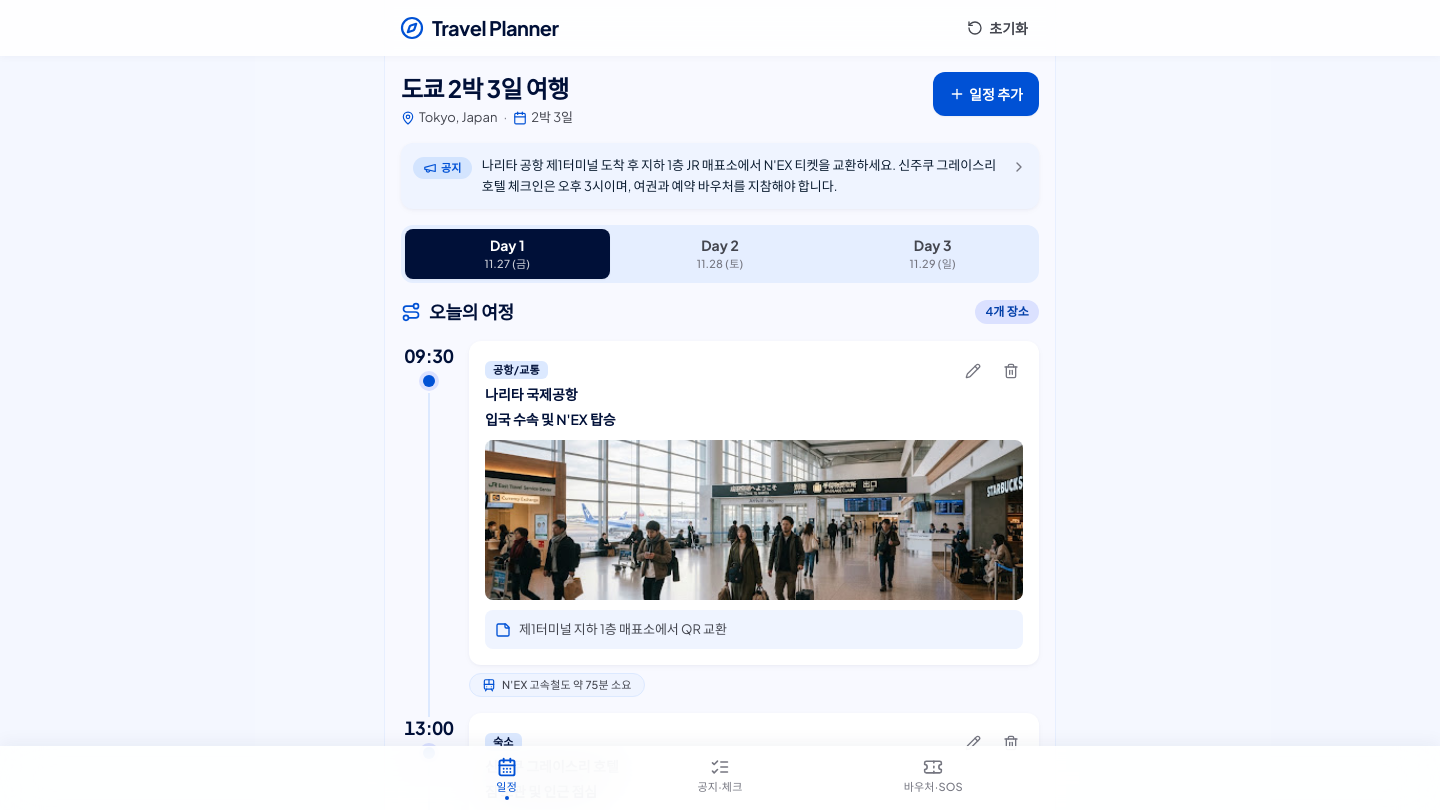
Test: Phase 2 신규 기능 및 입력값 보안 강화 자동화 QA › 2. 긴급 SOS 모달 및 공식 연락처 검증 (Agent A) › 긴급 SOS 모달 열기/닫기, 공식 tel 링크 적용 및 샘플 가이드 발신 비활성화를 검증한다
Click the button "바우처·SOS" at (933, 778), box [827,746,1040,809]
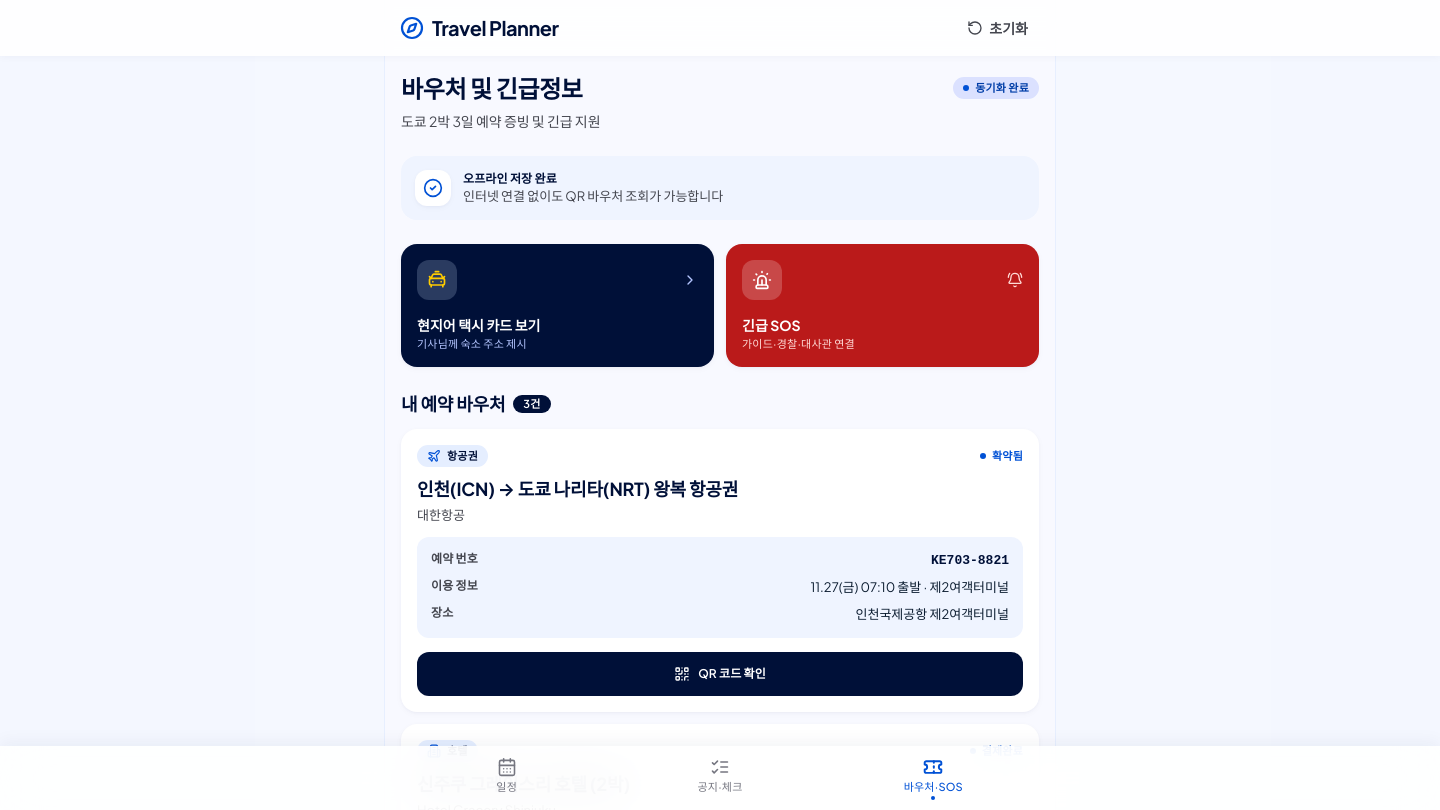
Expected: the button "긴급 SOS 가이드·경찰·대사관 연결" is shown
Click the button "긴급 SOS 가이드·경찰·대사관 연결" at (762, 280), box [726,244,1039,367]
(page scrolled)
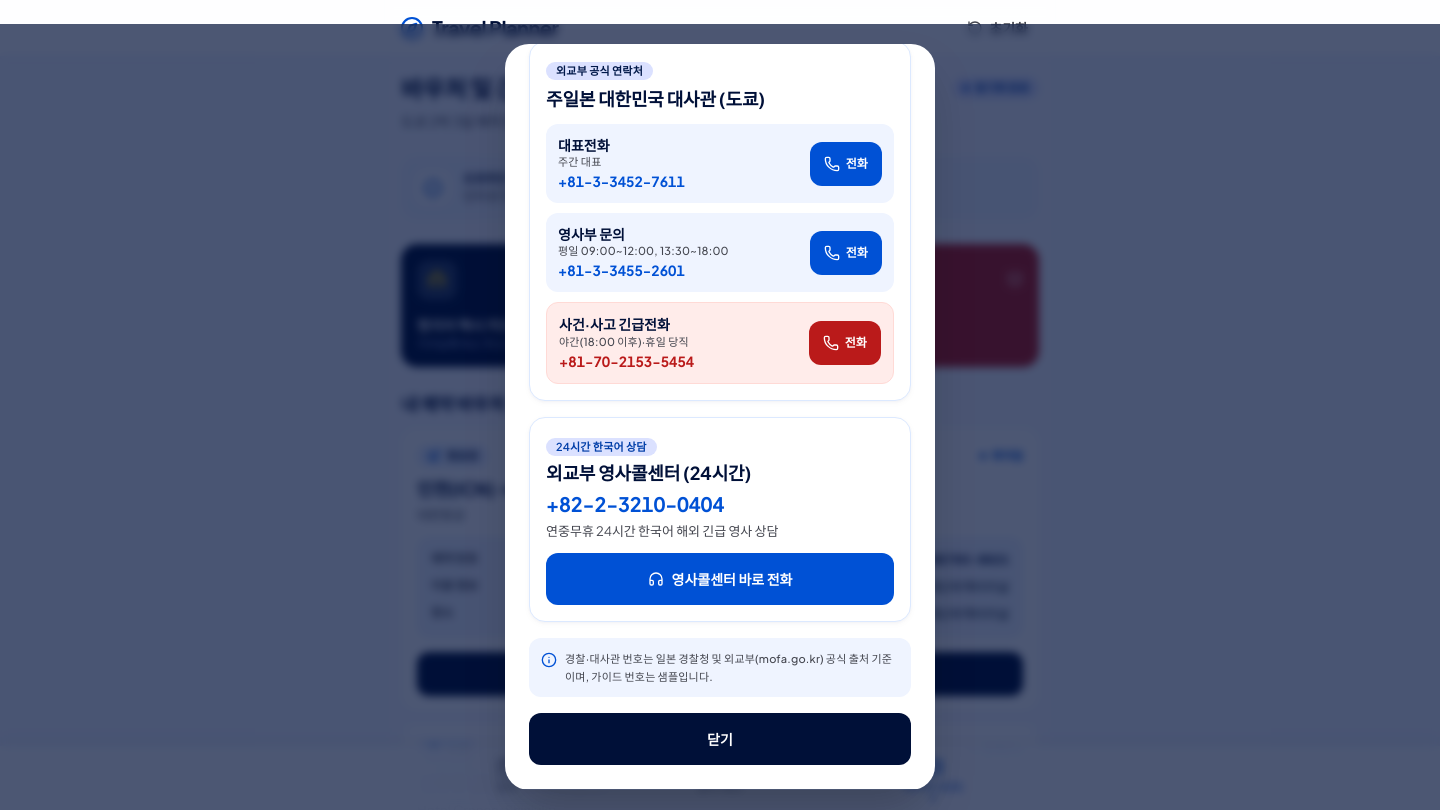
Expected: the text "+81-3-3452-7611" is shown, [558,171,685,191]
Expected: the text "+81-3-3455-2601" is shown, [558,261,685,279]
Expected: the text "+81-70-2153-5454" is shown, [559,351,694,371]
Click the button "닫기" at (720, 739), box [529,713,911,765]
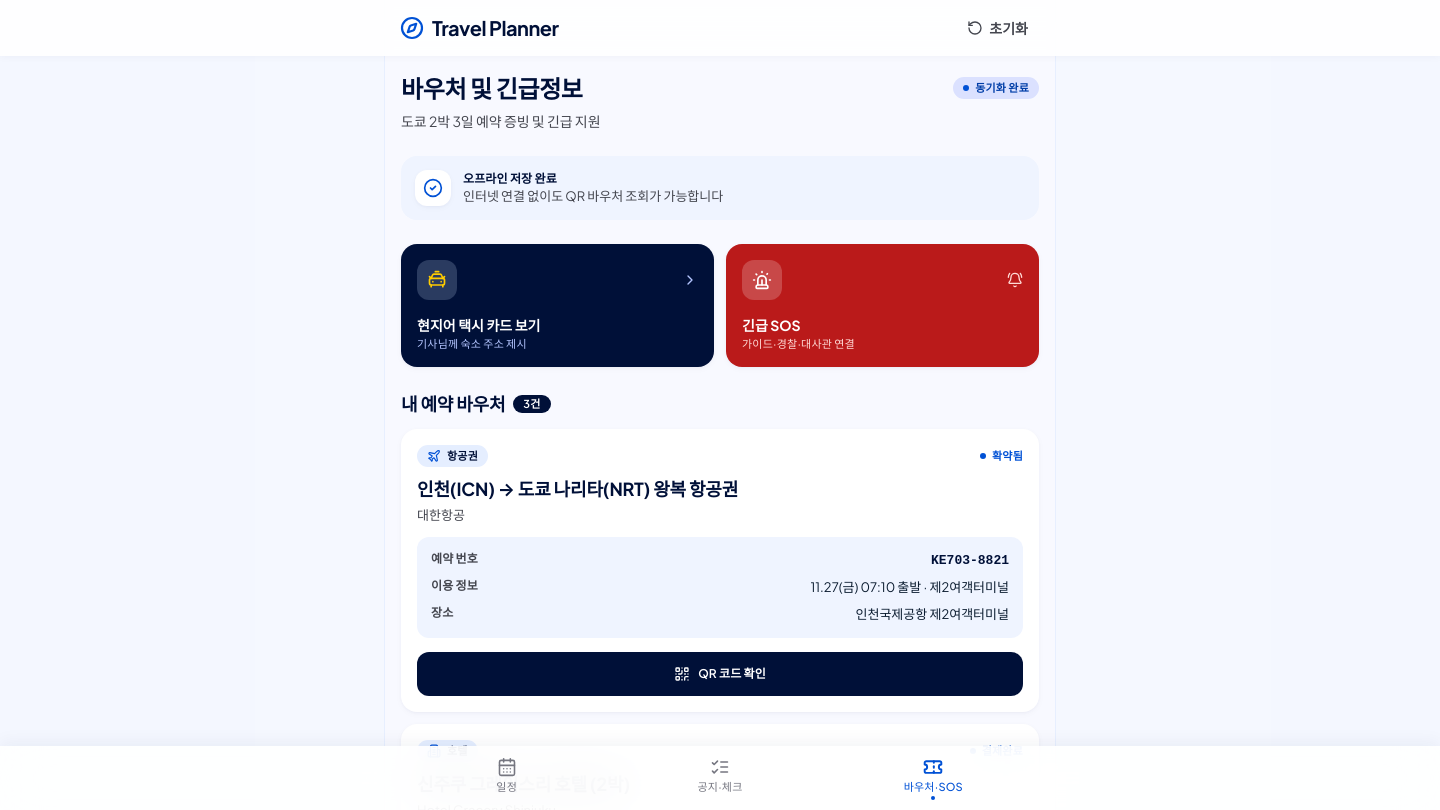
Expected: the dialog is gone
# 다시 열고 Escape 키로 닫기
Click the button "긴급 SOS 가이드·경찰·대사관 연결" at (762, 280), box [726,244,1039,367]
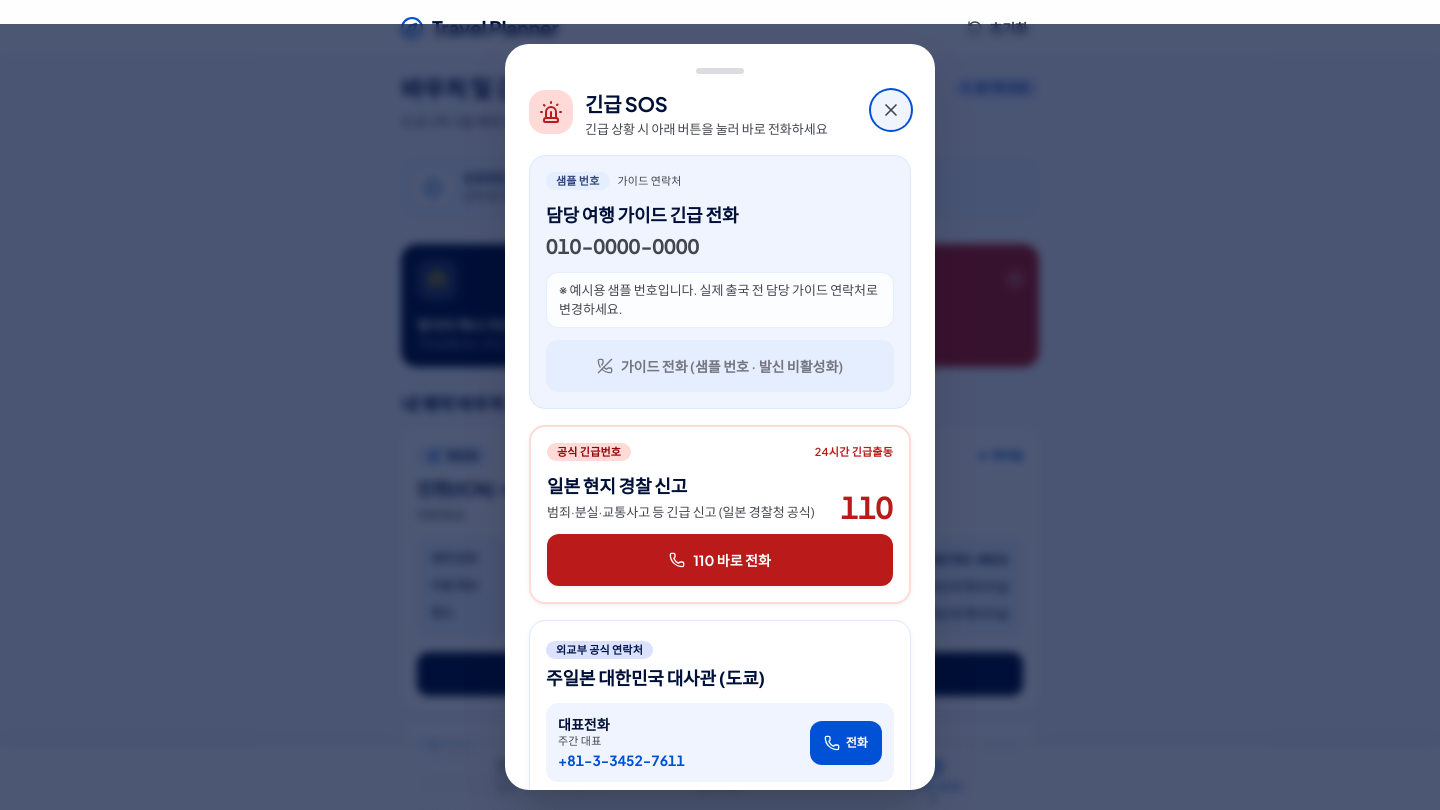
Expected: the dialog is shown
Press Escape
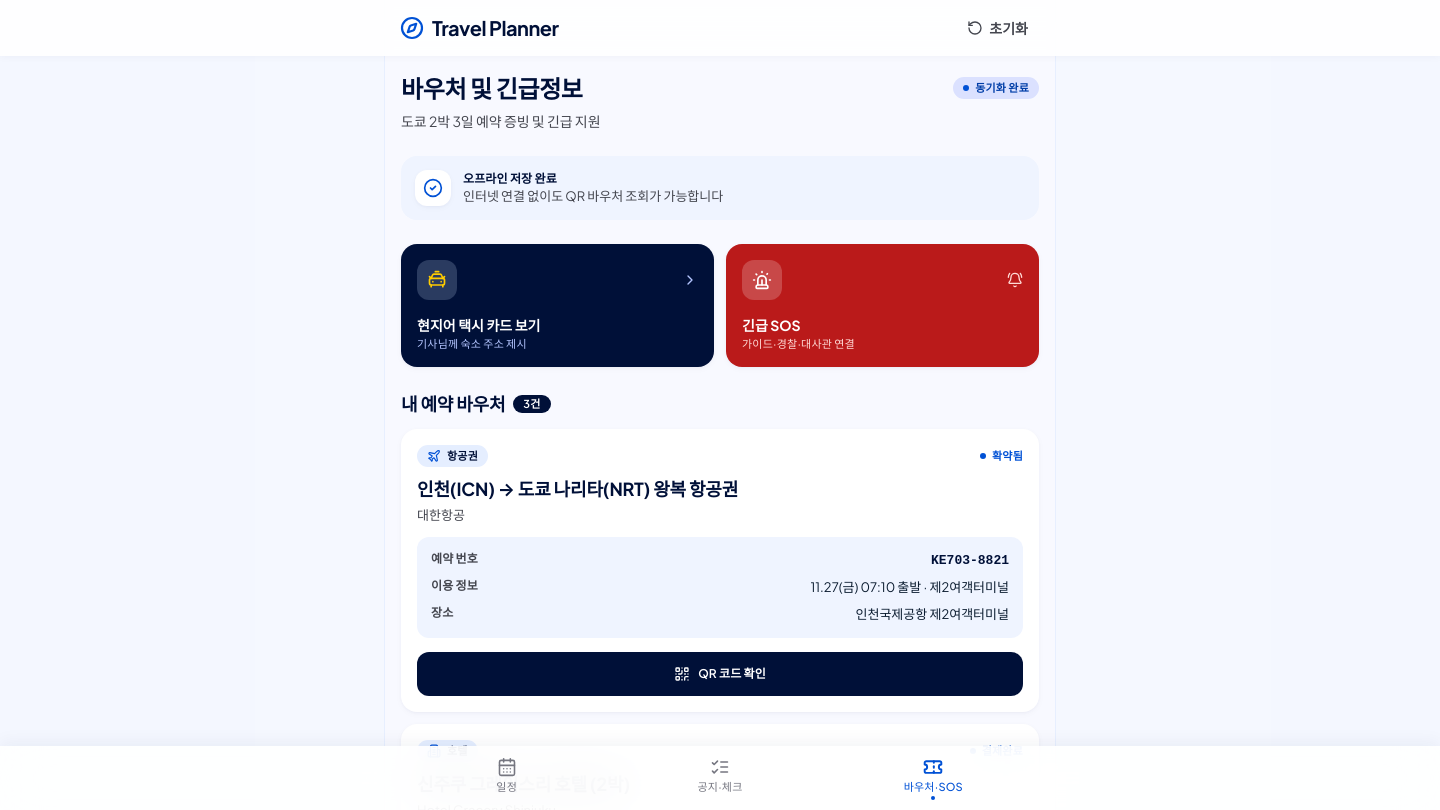
Expected: the dialog is gone
